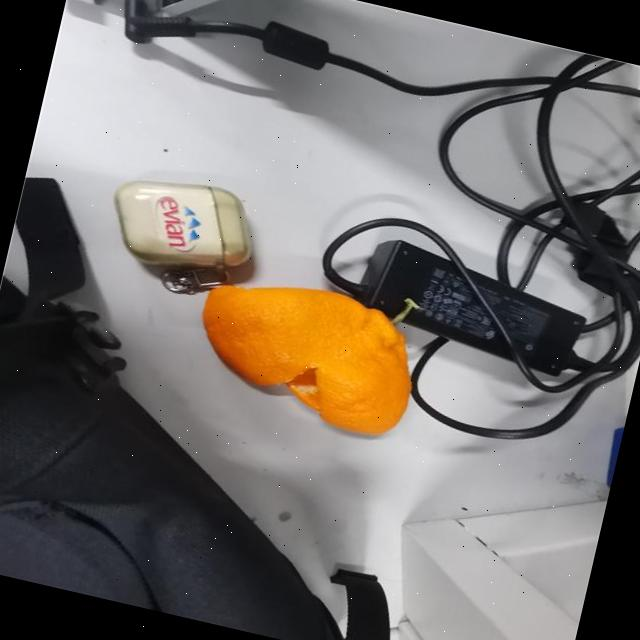orange-peel: (182, 260, 430, 444)
